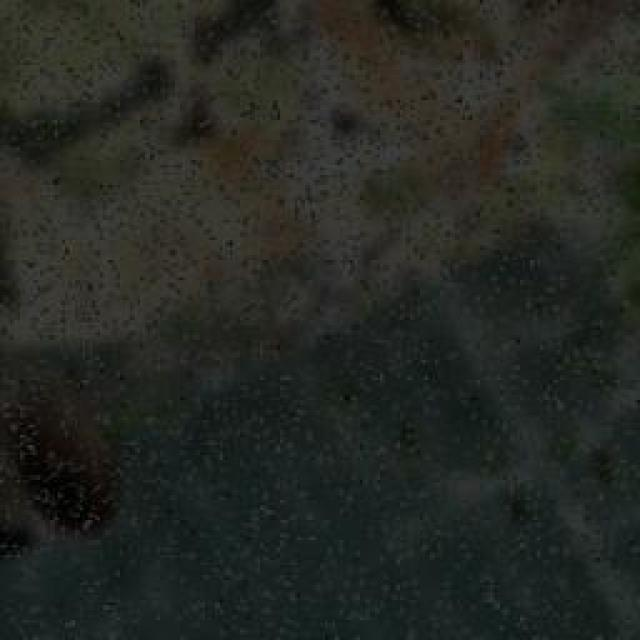Fox: (136, 0, 639, 305)
